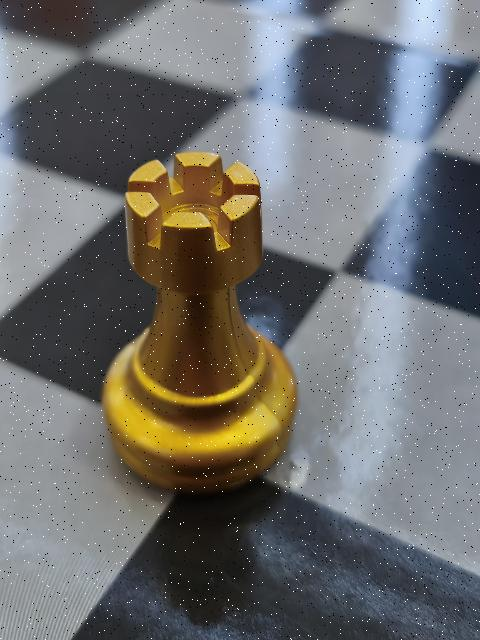black_rook: (99, 146, 299, 494)
